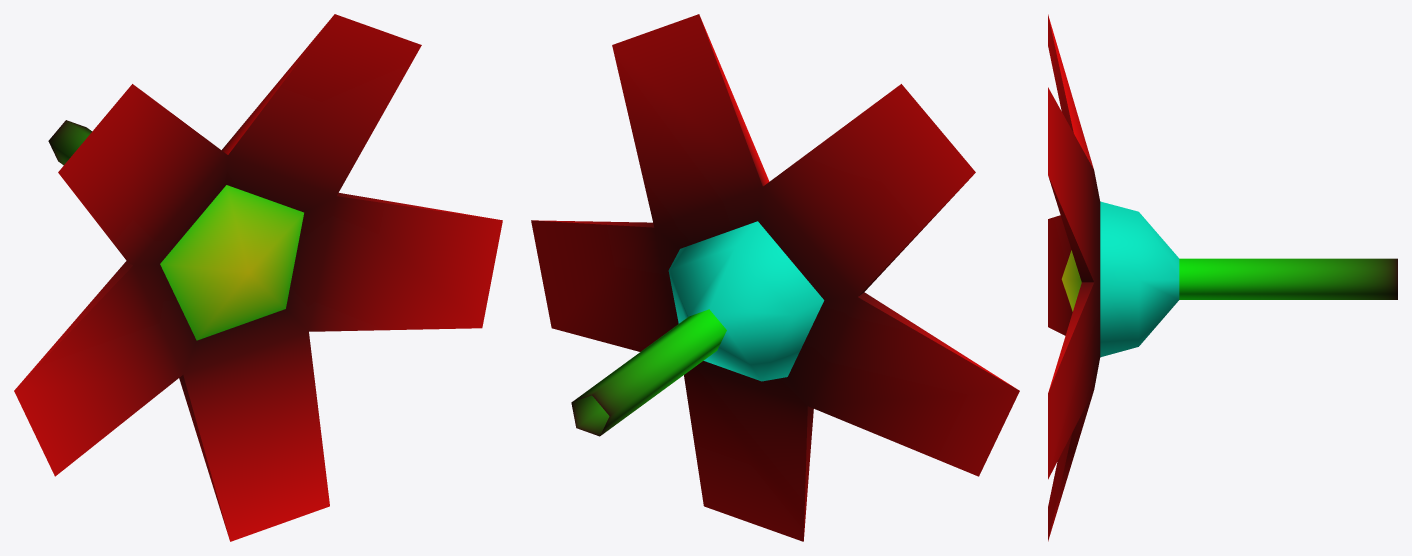
The model's file is Flower2.fbx.
3 renders of one model, left to right at view 1: azimuth 30°, elevation 25°; view 2: azimuth 150°, elevation 25°; view 3: azimuth 270°, elevation 25°, orthographic. The views are drawn at different scales.
Parts seen in each view (by area): view 1: Flower; view 2: Flower; view 3: Flower.
Boxes of the visible parts, <box> form: Flower: <box>14,14,502,541</box>; Flower: <box>531,14,1019,541</box>; Flower: <box>1048,14,1397,541</box>.
Bounding box in the file's own units: 1.23 × 1.2 × 0.8166.
